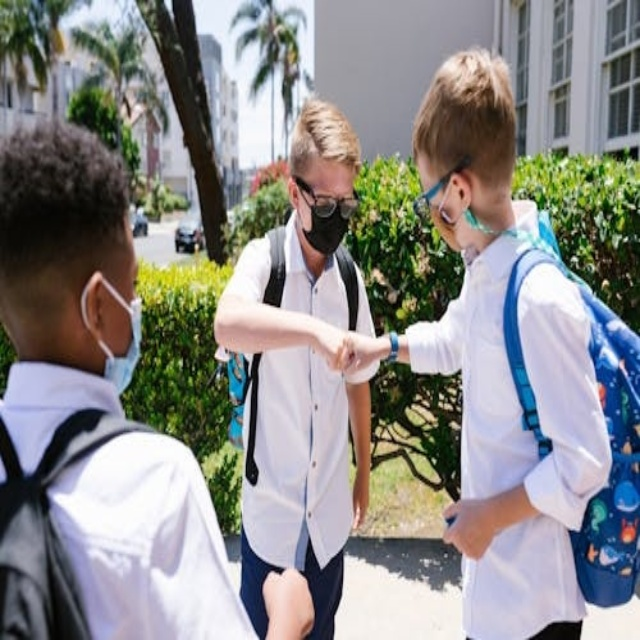Gafas: (412, 156, 472, 229), (293, 176, 360, 221)
Mascara: (83, 273, 154, 394), (419, 194, 467, 265), (305, 198, 356, 261)
Sin_guantes: (257, 550, 320, 638), (439, 491, 501, 561), (324, 330, 362, 377)
